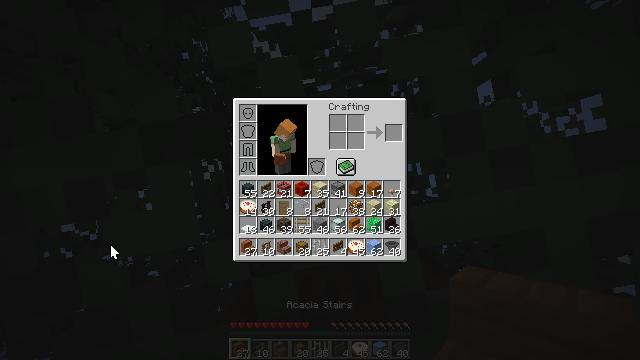cursor: (110, 244, 120, 260)
